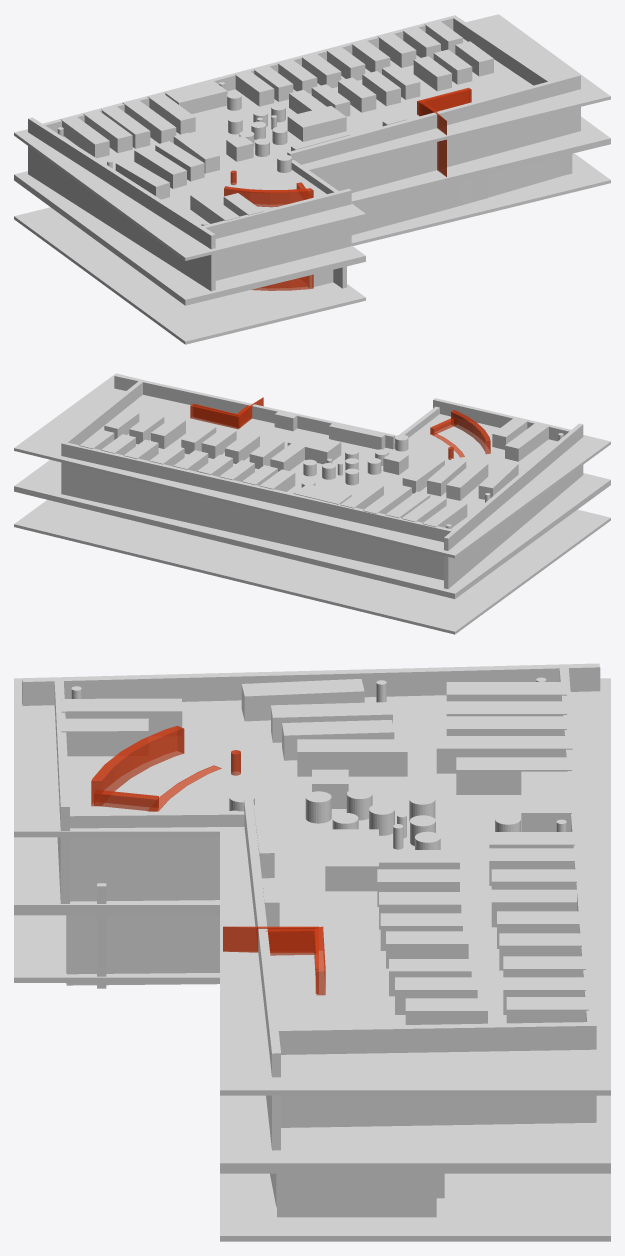
Rendered from Mensa_Model.fbx.
3 views of the same model, one above another, from view 1: azimuth 30°, elevation 25°; view 2: azimuth 150°, elevation 25°; view 3: azimuth 270°, elevation 25° (orthographic). The views are drawn at different scales.
Visible parts, largest first — view 1: Oben, Unten, Mitte, Cube.014, Cube.017, Cube.018, Cube.011, Cube.003, Cube.016, Cube.013, Cube.015, Cube.050 (+34 smaller); view 2: Unten, Oben, Cube.016, Mitte, Cube.017, Cube.014, Cube.018, Cube.015, Cube.050, Cube.044, Cube.042, Cube.052 (+33 smaller); view 3: Oben, Mitte, Unten, Cube.012, Cube.015, Cube.017, Cube.004, Cube.014, Cube.048, Cube.050, Cube.043, Cube.029 (+36 smaller).
Boxes of the visible parts, left/top/right/bottom form: Oben: left=14, top=14, right=610, bottom=260; Unten: left=14, top=153, right=610, bottom=344; Mitte: left=14, top=116, right=610, bottom=305; Cube.014: left=287, top=73, right=580, bottom=192; Cube.017: left=28, top=117, right=215, bottom=291; Cube.018: left=201, top=188, right=351, bottom=280; Cube.011: left=351, top=180, right=462, bottom=235; Cube.003: left=458, top=156, right=560, bottom=205; Cube.016: left=42, top=15, right=455, bottom=132; Cube.013: left=224, top=186, right=313, bottom=290; Cube.015: left=451, top=15, right=551, bottom=85; Cube.050: left=287, top=106, right=346, bottom=141; Unten: left=14, top=500, right=610, bottom=634; Oben: left=14, top=373, right=610, bottom=558; Cube.016: left=61, top=442, right=452, bottom=580; Mitte: left=14, top=459, right=610, bottom=598; Cube.017: left=444, top=423, right=583, bottom=588; Cube.014: left=114, top=374, right=395, bottom=449; Cube.018: left=433, top=398, right=571, bottom=441; Cube.015: left=62, top=381, right=142, bottom=445; Cube.050: left=287, top=432, right=341, bottom=464; Cube.044: left=505, top=422, right=549, bottom=461; Cube.042: left=446, top=461, right=488, bottom=500; Cube.052: left=329, top=423, right=385, bottom=449; Oben: left=14, top=678, right=610, bottom=1095; Mitte: left=14, top=837, right=610, bottom=1173; Unten: left=14, top=915, right=610, bottom=1241; Cube.012: left=66, top=810, right=244, bottom=985; Cube.015: left=276, top=1022, right=595, bottom=1127; Cube.017: left=22, top=663, right=600, bottom=705; Cube.004: left=277, top=1173, right=436, bottom=1217; Cube.014: left=244, top=799, right=280, bottom=1150; Cube.048: left=297, top=739, right=407, bottom=776; Cube.050: left=325, top=829, right=378, bottom=891; Cube.043: left=241, top=679, right=364, bottom=721; Cube.029: left=436, top=736, right=572, bottom=773.
Size of the model in its own units: 4505 by 999 by 2759.
